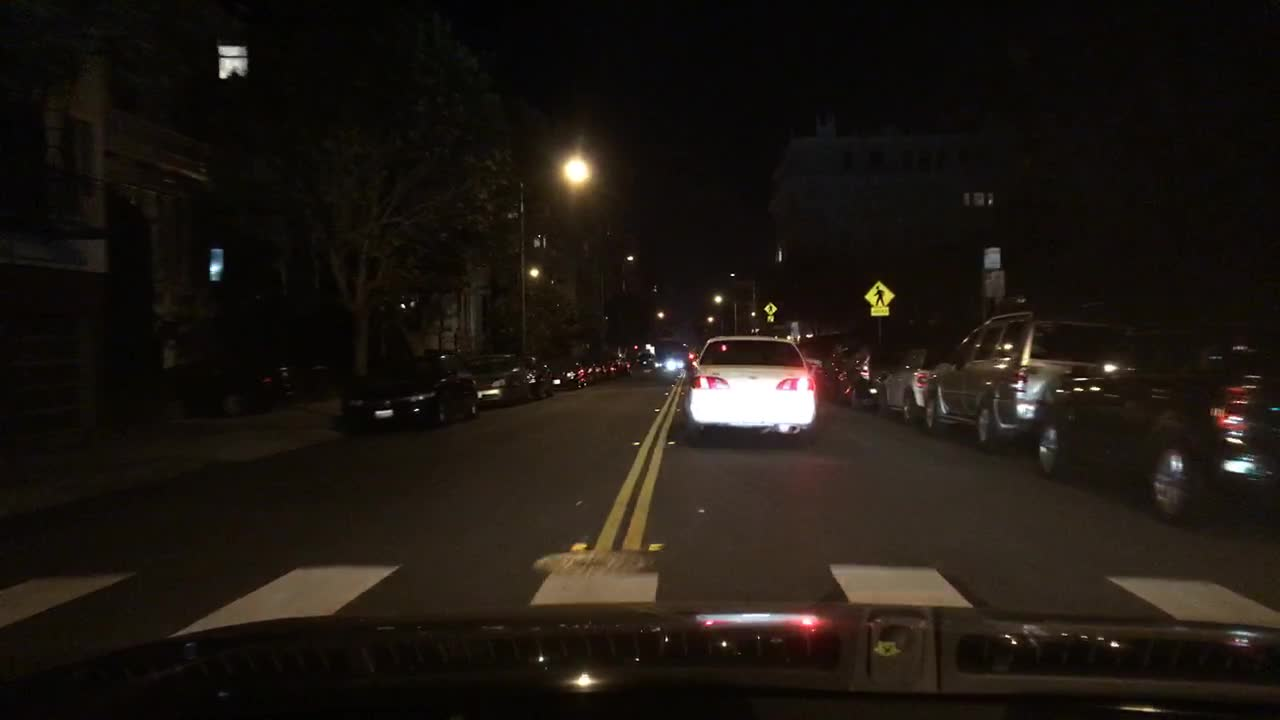car: (1033, 309, 1279, 526), (922, 306, 1160, 450), (683, 334, 818, 439), (339, 351, 482, 431), (165, 354, 301, 421), (865, 333, 958, 421), (838, 336, 913, 406), (457, 350, 536, 406), (801, 326, 859, 401), (517, 354, 552, 398), (299, 351, 331, 399), (549, 360, 583, 391), (575, 365, 596, 386), (620, 358, 631, 375), (642, 358, 660, 368), (666, 358, 681, 369), (605, 361, 616, 376), (595, 363, 603, 378)
traffic light: (631, 340, 636, 351)
traffic sign: (860, 277, 895, 316), (762, 300, 777, 323)
